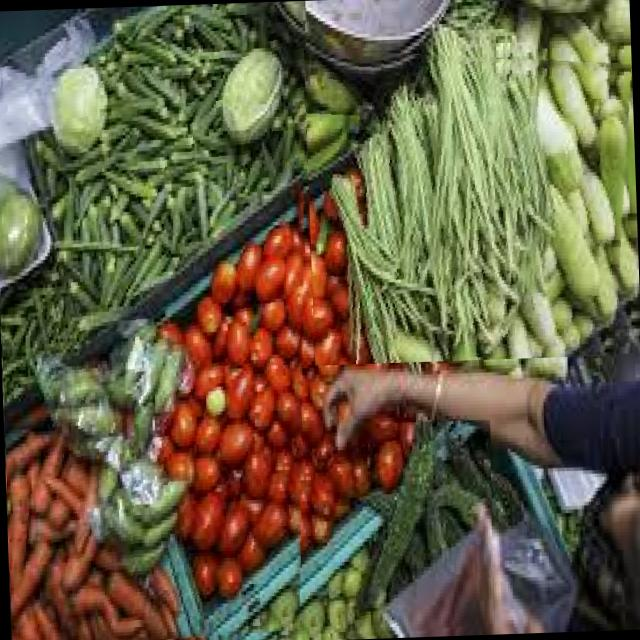Organic: (0, 0, 328, 640), (303, 37, 640, 365), (323, 419, 497, 640)
